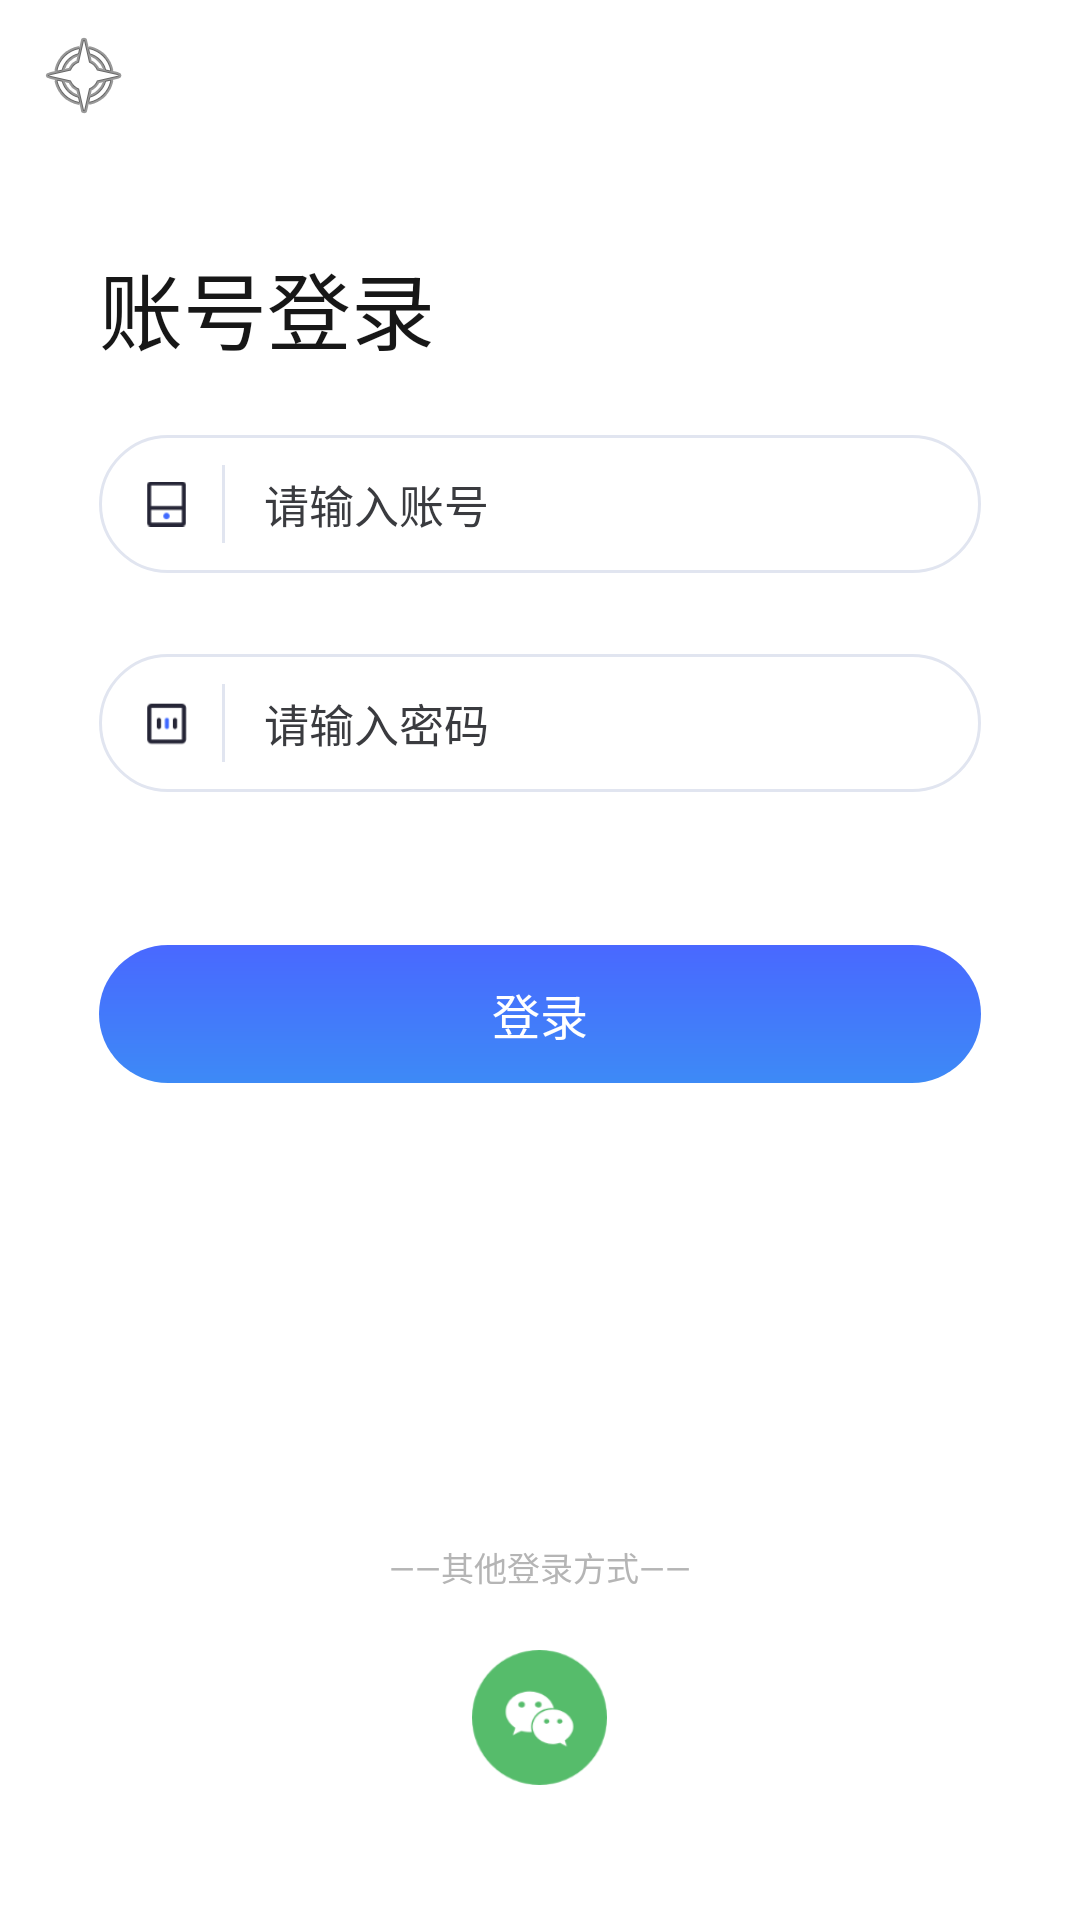

Where to tap for icons on this 1080*1920 app screen, as [x,y]:
phone: [166,504]
pwdicon: [167,724]
